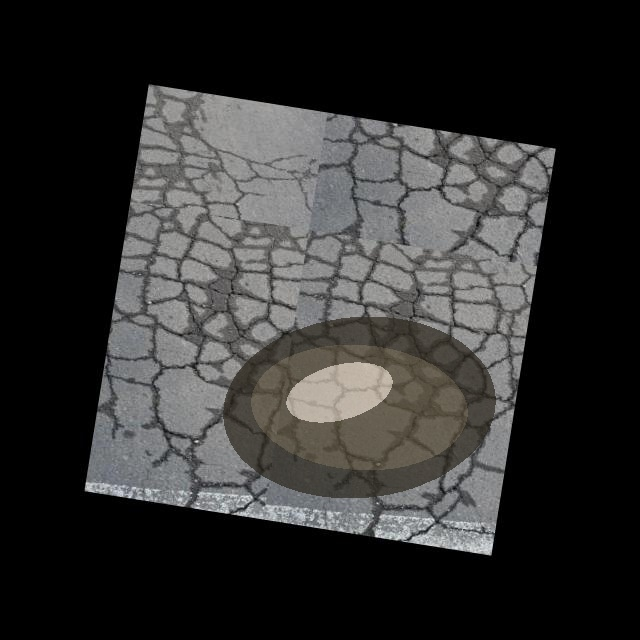waterlogging: (213, 307, 505, 507)
